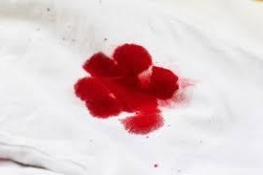blood: (74, 43, 183, 134)
